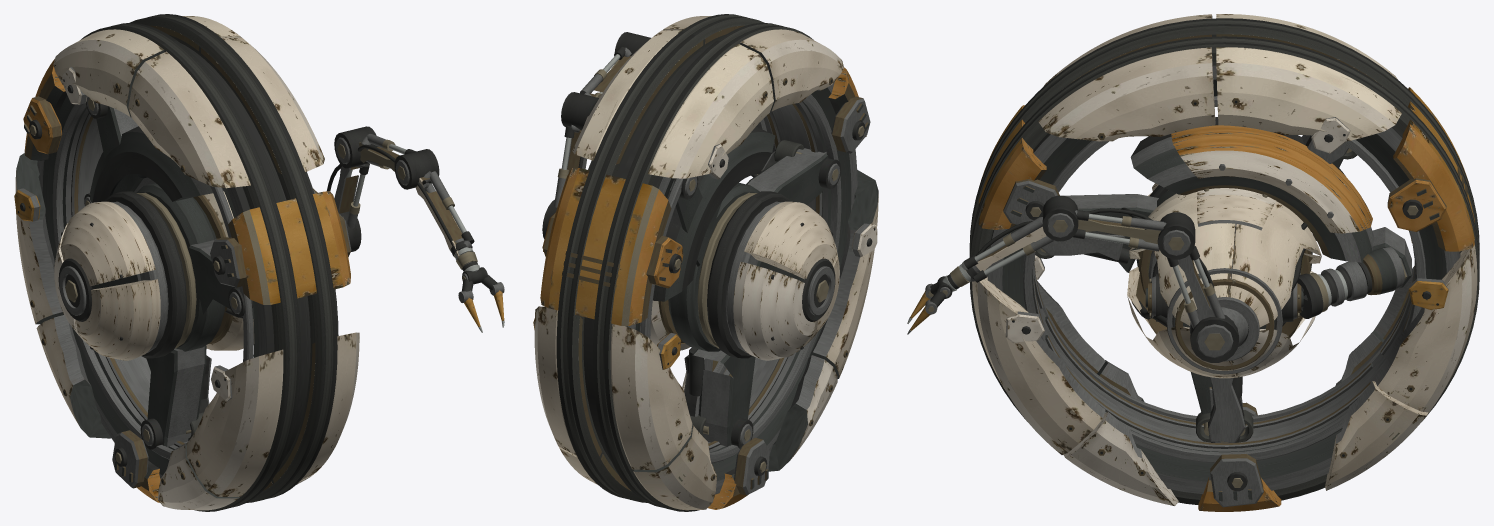
File: spindle.glb
3 views of the same model, side by side, from view 1: azimuth 30°, elevation 25°; view 2: azimuth 150°, elevation 25°; view 3: azimuth 270°, elevation 25° (orthographic). The views are drawn at different scales.
Parts seen in each view (by area): view 1: RollAssembly, HousingAssembly, WristAssembly, ElbowAssembly, ShoulderAssembly; view 2: RollAssembly, HousingAssembly, ElbowAssembly, ShoulderAssembly, WristAssembly; view 3: RollAssembly, HousingAssembly, WristAssembly, ElbowAssembly, ShoulderAssembly.
Part boxes in pixels (left/top/right/bottom): RollAssembly: left=14, top=14, right=359, bottom=511; HousingAssembly: left=54, top=96, right=317, bottom=449; WristAssembly: left=394, top=149, right=487, bottom=284; ElbowAssembly: left=334, top=126, right=415, bottom=171; ShoulderAssembly: left=327, top=163, right=369, bottom=251; RollAssembly: left=533, top=14, right=878, bottom=511; HousingAssembly: left=640, top=126, right=840, bottom=448; ElbowAssembly: left=561, top=47, right=631, bottom=130; ShoulderAssembly: left=542, top=125, right=586, bottom=238; WristAssembly: left=614, top=32, right=650, bottom=55; RollAssembly: left=969, top=14, right=1479, bottom=511; HousingAssembly: left=1035, top=117, right=1411, bottom=443; WristAssembly: left=937, top=195, right=1078, bottom=298; ElbowAssembly: left=1073, top=208, right=1195, bottom=259; ShoulderAssembly: left=1167, top=245, right=1238, bottom=362.
Bounding box in the file's own units: 0.86 × 1.28 × 1.44.
1 material, 1 textured.
